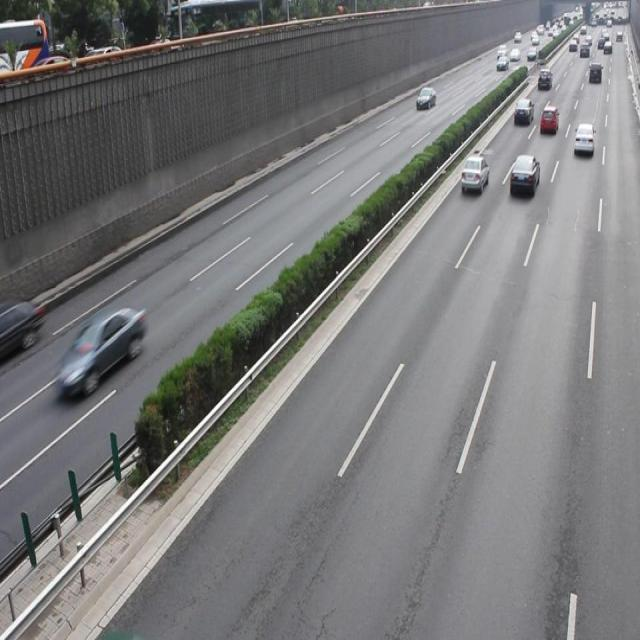car: (54, 300, 147, 396), (1, 294, 40, 360), (508, 152, 539, 198), (460, 155, 488, 193)
